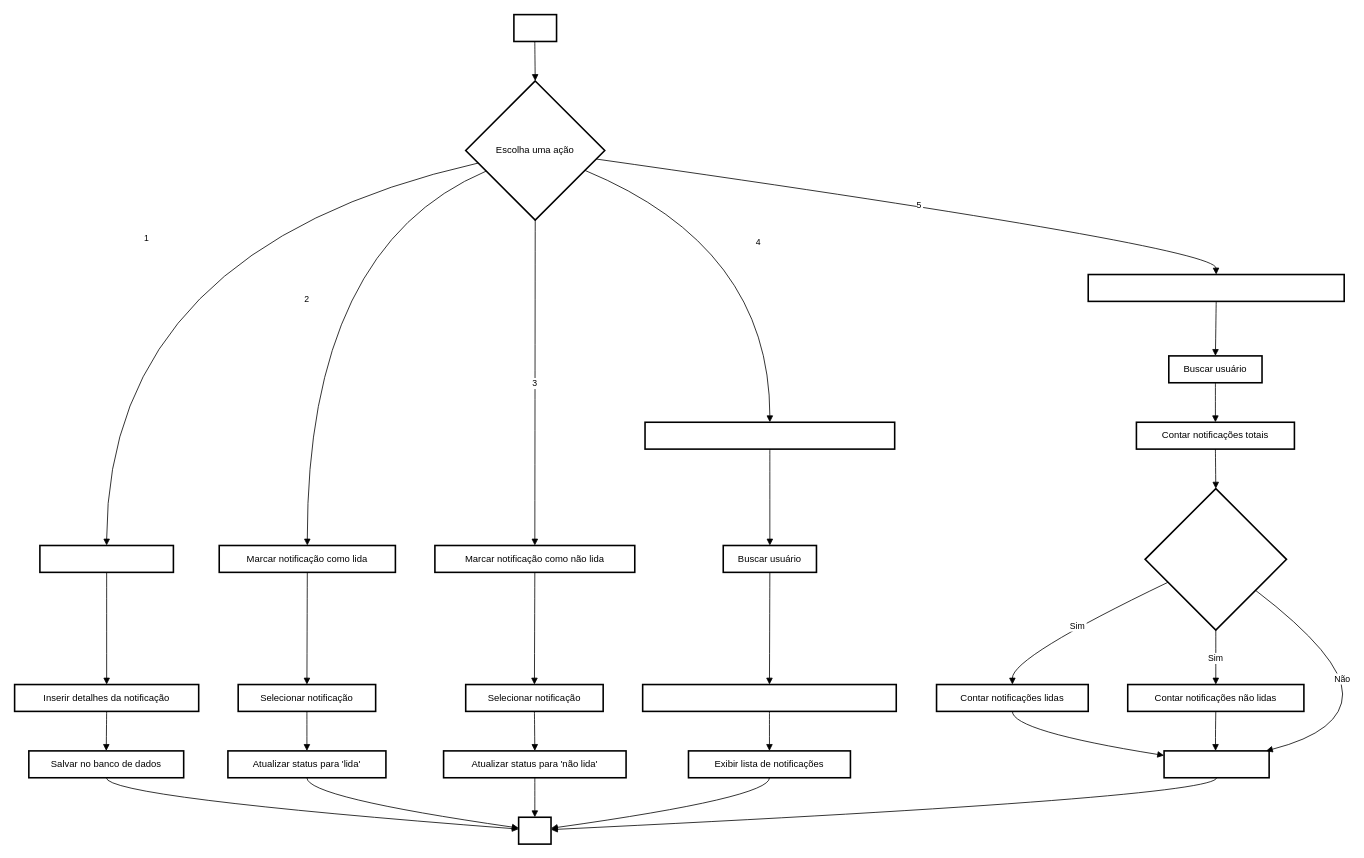
Image size: 1364x858. Some labels were removed from this diagram. Each missing label, with the box of its shape:
Cadastrar notificação: (39, 544, 174, 573)
Contar por status?: (1144, 487, 1287, 630)
Contar todas as notificações de um usuário: (1087, 273, 1345, 302)
Exibir contagens: (1163, 750, 1270, 778)
Fim: (517, 816, 551, 845)
Início: (513, 13, 557, 42)
Listar todas as notificações de um usuário: (644, 421, 895, 450)
Recuperar todas as notificações do usuário: (641, 683, 897, 712)
